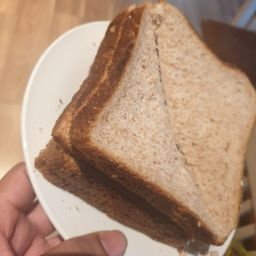Breads: (70, 3, 256, 256), (25, 58, 186, 209)
